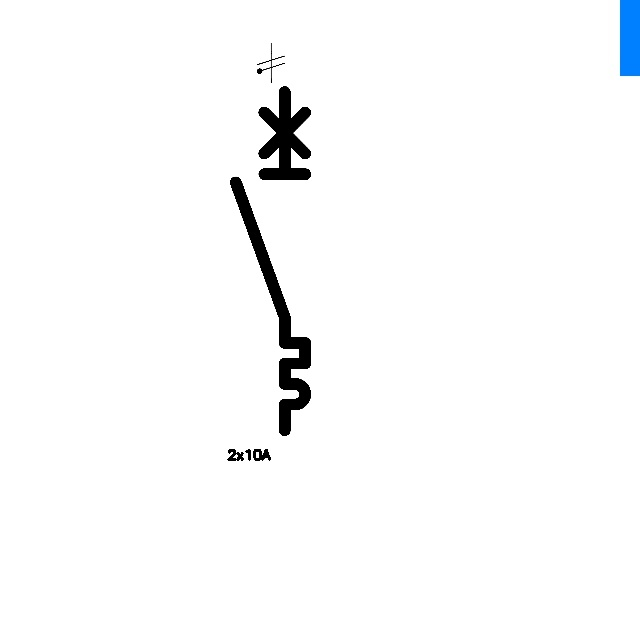interruptor_termomagnetico: (227, 83, 314, 439)
